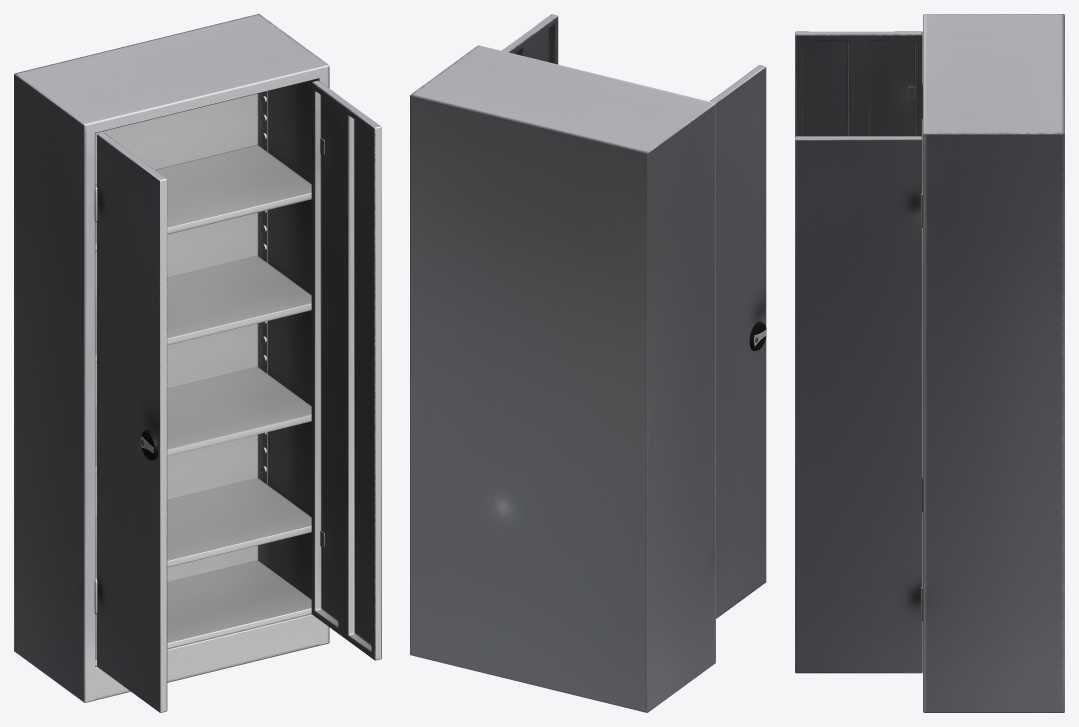
File: toronto_akten_grey_laquered_metal.glb
3 views of the same model, side by side, from view 1: azimuth 30°, elevation 25°; view 2: azimuth 150°, elevation 25°; view 3: azimuth 270°, elevation 25° (orthographic). The views are drawn at different scales.
Parts seen in each view (by area): view 1: toronto_akten-grey; view 2: toronto_akten-grey; view 3: toronto_akten-grey.
Boxes of the visible parts, bbox=[...] form: toronto_akten-grey: bbox=[14, 14, 381, 712]; toronto_akten-grey: bbox=[410, 14, 766, 712]; toronto_akten-grey: bbox=[795, 14, 1064, 712].
Size of the model in its own units: 0.7994 by 1.8 by 0.759.
1 material, 1 textured.
